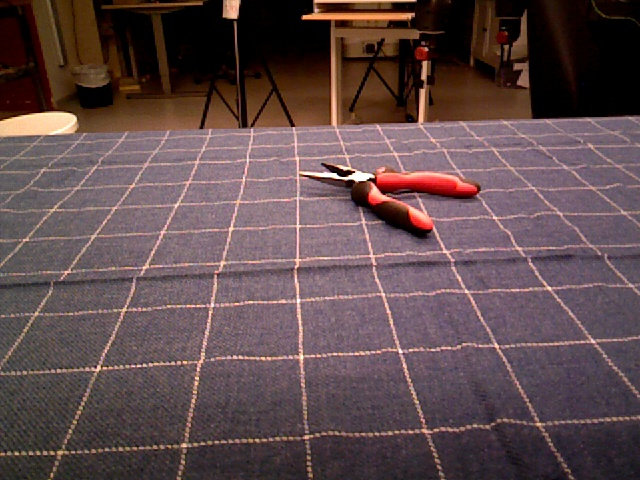plier1: (298, 161, 483, 238)
